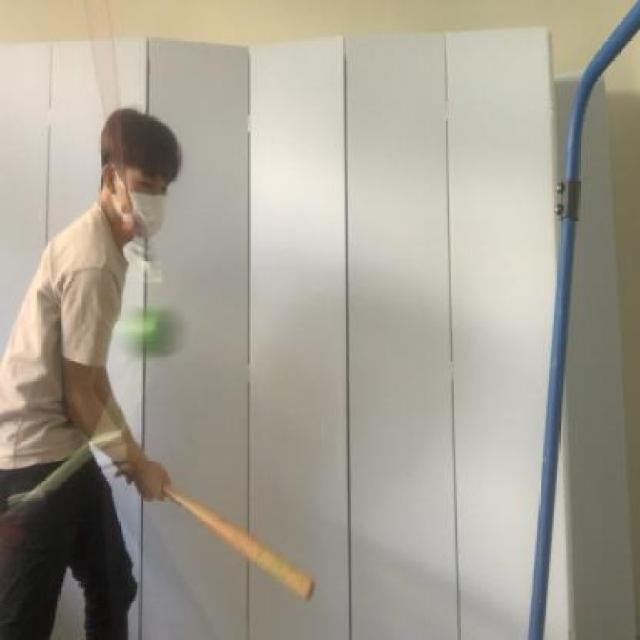baseball: (117, 296, 195, 367)
